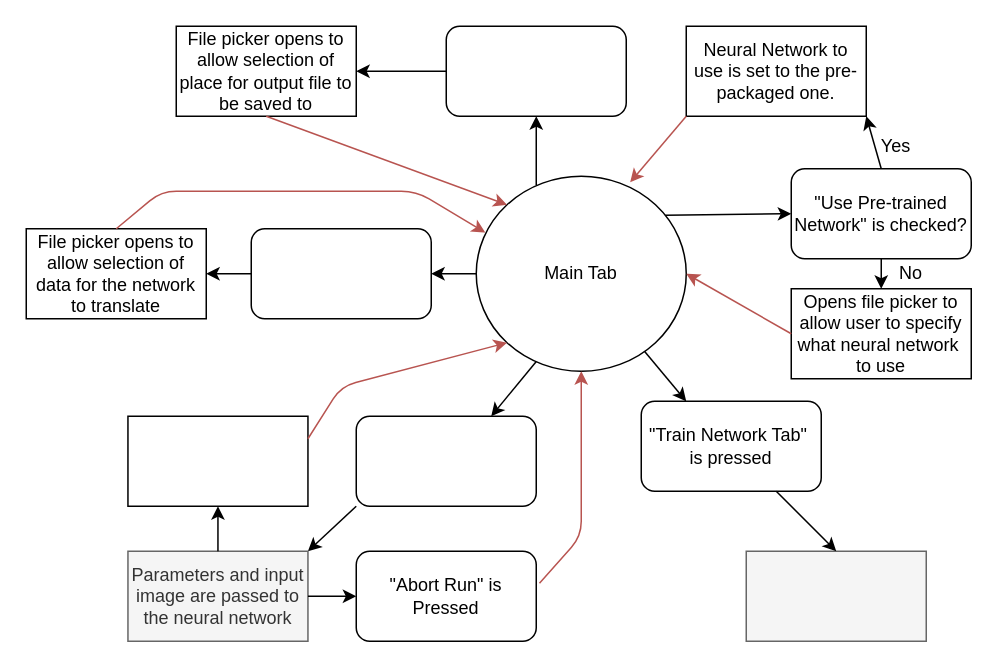
Image size: 998x668. Some labels were removed from this diagram. Each missing label, with the centre of its shape:
"Run" is pressed: (x=445, y=460)
"Select Data" is pressed: (x=340, y=273)
"Select Save File" is pressed: (x=535, y=70)
Changes tabs to the train network one: (x=835, y=595)
Outputted text file is save to specified location on computer: (x=217, y=460)
